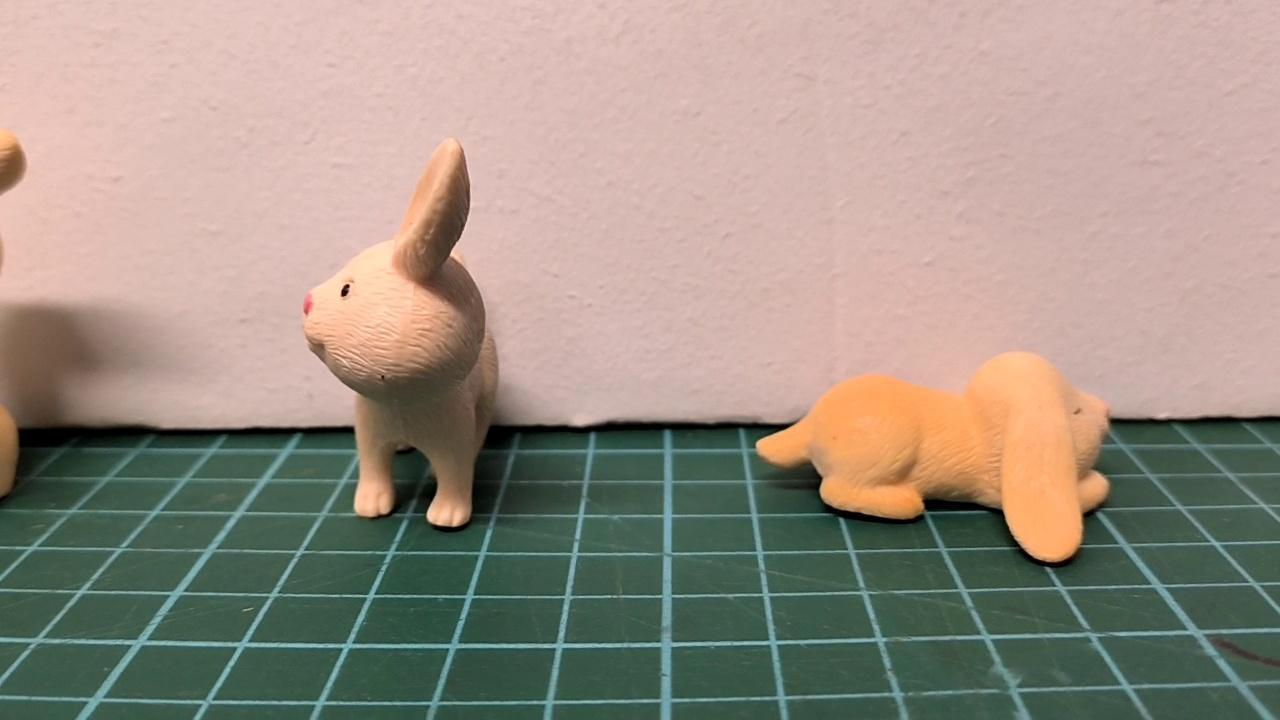pet: (302, 136, 497, 528), (759, 351, 1111, 564)
